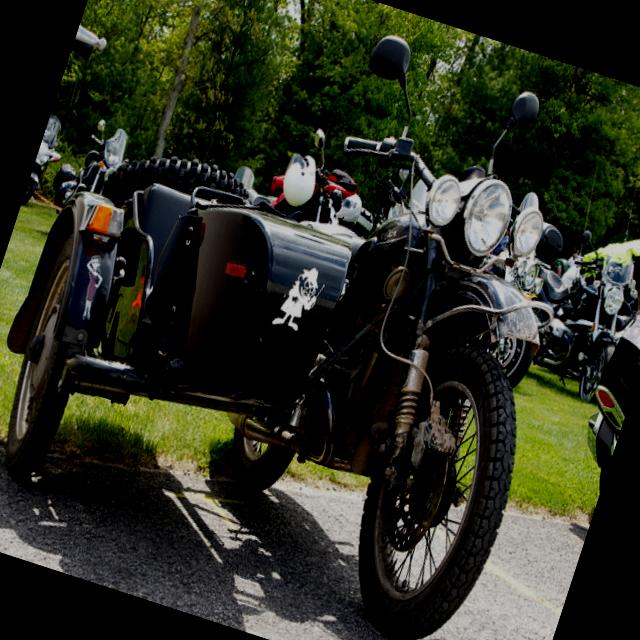Vehicle: (0, 0, 636, 640), (501, 208, 640, 411), (456, 186, 582, 396), (562, 209, 640, 496), (261, 120, 370, 238), (46, 111, 132, 220), (20, 114, 74, 214)
